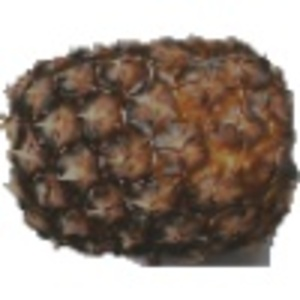abacaxi: (3, 28, 295, 254)
